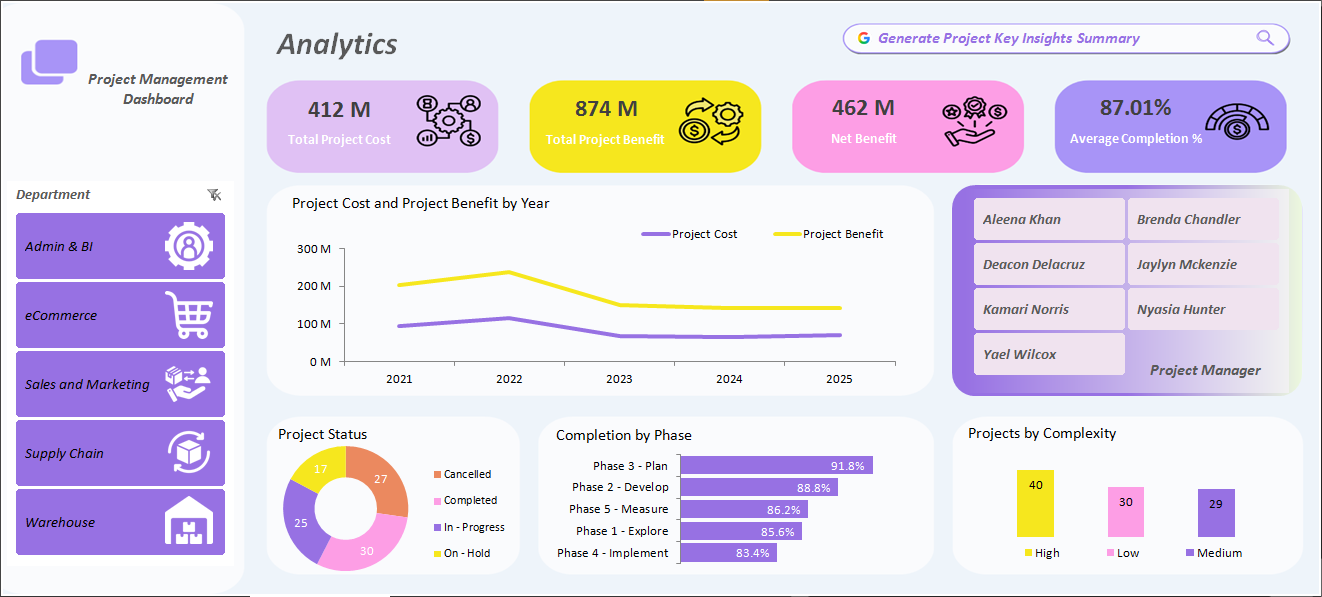

What the dashboard file says about the page in this screenshot:
{"tool":"powerbi","page":{"name":"Project Dashboard","canvas":[3300,1800],"ordinal":0},"visuals":[{"type":"shape","box":[8.1,4,663.9,1789.2],"z":0},{"type":"shape","box":[725,185.9,600,300],"z":1000},{"type":"shape","box":[1377.9,185.9,600,300],"z":2000},{"type":"shape","box":[2030.9,185.9,600,300],"z":3000},{"type":"shape","box":[2683.9,185.9,599.1,299.6],"z":4000},{"type":"shape","box":[724.6,542.4,1882.4,651.7],"z":5000},{"type":"shape","box":[724.6,1222.5,882.5,570.8],"z":6000},{"type":"shape","box":[1651.6,1222.5,955.3,570.8],"z":7000},{"type":"shape","box":[2683.9,1222.5,607.2,570.8],"z":8000},{"type":"shape","box":[2683.9,542.4,599.1,651.7],"z":9000},{"type":"shape","box":[2032.1,32.4,1250.9,109.3],"z":10000},{"type":"card","fields":{"Values":["Project_Management_Dashboard.Total Project Cost"]},"box":[757,186.2,372.4,299.6],"z":11000},{"type":"card","fields":{"Values":["Project_Management_Dashboard.Total Project Benefit"]},"box":[1396.6,186.2,372.4,299.6],"z":12000},{"type":"card","fields":{"Values":["Project_Management_Dashboard.Net Benefit"]},"box":[2056.4,186.2,372.4,299.6],"z":13000},{"type":"card","fields":{"Values":["Project_Management_Dashboard.Average Completion %"]},"box":[2708.2,186.2,425,299.6],"z":14000},{"type":"image","box":[1080.8,186.2,218.6,182.2],"z":15000},{"type":"image","box":[2388.4,190.3,218.6,182.2],"z":16000},{"type":"image","box":[1716.4,190.3,218.6,182.2],"z":17000},{"type":"image","box":[3052.2,186.2,218.6,182.2],"z":18000},{"type":"image","box":[24.3,32.4,251,246.9],"z":19000},{"type":"image","box":[2036.2,60.7,125.5,56.7],"z":20000},{"type":"lineChart","title":"Project Cost and Project Benefit by Year","fields":{"Category":["Project_Management_Dashboard.Year"],"Y":["Project_Management_Dashboard.Total Project Cost","Project_Management_Dashboard.Total Project Benefit"]},"box":[757,574.8,1821.6,587],"z":21000},{"type":"donutChart","title":"Project Status","fields":{"Category":["Project_Management_Dashboard.Status"],"Y":["CountNonNull(Project_Management_Dashboard.Status)"]},"box":[757,1242.8,825.8,534.3],"z":22000},{"type":"clusteredBarChart","title":"Completion % by Phase","fields":{"Category":["Project_Management_Dashboard.Phase"],"Y":["Project_Management_Dashboard.Average Completion %"]},"box":[1679.9,1242.8,927,534.3],"z":23000},{"type":"clusteredColumnChart","title":"Projects by Complexity","fields":{"Category":["Project_Management_Dashboard.Complexity"],"Y":["CountNonNull(Project_Management_Dashboard.Complexity)"]},"box":[2708.2,1242.8,574.8,534.3],"z":24000},{"type":"advancedSlicerVisual","fields":{"Values":["Project_Management_Dashboard.Department"]},"box":[40.5,542.4,599.1,1234.7],"z":25000},{"type":"image","box":[408.9,635.5,218.6,182.2],"z":26000},{"type":"image","box":[404.8,866.3,218.6,182.2],"z":27000},{"type":"image","box":[408.9,1101.1,218.6,182.2],"z":28000},{"type":"image","box":[404.8,1331.8,218.6,182.2],"z":29000},{"type":"image","box":[400.8,1562.6,218.6,182.2],"z":30000},{"type":"textbox","box":[40.5,259.1,599.1,153.8],"z":31000},{"type":"textbox","box":[643.6,12.1,599.1,153.8],"z":32000},{"type":"textbox","box":[2153.6,48.6,850.1,81],"z":33000},{"type":"image","box":[3153.4,48.6,97.2,76.9],"z":34000},{"type":"advancedSlicerVisual","fields":{"Values":["Project_Management_Dashboard.Project Manager"]},"box":[2700.1,574.8,562.7,587],"z":35000},{"type":"textbox","box":[2983.4,1048.5,287.4,64.8],"z":36000}]}

Visuals, with their boxes on the page's 3300x1800 design canvas (x1, y1, x2, y2). These are canvas units, not pixel positions in the 1322x597 screenshot, which may show the page scaled, cropped or inside an application window:
shape: pyautogui.locateOnScreen(8, 4, 672, 1793)
shape: pyautogui.locateOnScreen(725, 186, 1325, 486)
shape: pyautogui.locateOnScreen(1378, 186, 1978, 486)
shape: pyautogui.locateOnScreen(2031, 186, 2631, 486)
shape: pyautogui.locateOnScreen(2684, 186, 3283, 486)
shape: pyautogui.locateOnScreen(725, 542, 2607, 1194)
shape: pyautogui.locateOnScreen(725, 1222, 1607, 1793)
shape: pyautogui.locateOnScreen(1652, 1222, 2607, 1793)
shape: pyautogui.locateOnScreen(2684, 1222, 3291, 1793)
shape: pyautogui.locateOnScreen(2684, 542, 3283, 1194)
shape: pyautogui.locateOnScreen(2032, 32, 3283, 142)
card - Project_Management_Dashboard.Total Project Cost: pyautogui.locateOnScreen(757, 186, 1129, 486)
card - Project_Management_Dashboard.Total Project Benefit: pyautogui.locateOnScreen(1397, 186, 1769, 486)
card - Project_Management_Dashboard.Net Benefit: pyautogui.locateOnScreen(2056, 186, 2429, 486)
card - Project_Management_Dashboard.Average Completion %: pyautogui.locateOnScreen(2708, 186, 3133, 486)
image: pyautogui.locateOnScreen(1081, 186, 1299, 368)
image: pyautogui.locateOnScreen(2388, 190, 2607, 372)
image: pyautogui.locateOnScreen(1716, 190, 1935, 372)
image: pyautogui.locateOnScreen(3052, 186, 3271, 368)
image: pyautogui.locateOnScreen(24, 32, 275, 279)
image: pyautogui.locateOnScreen(2036, 61, 2162, 117)
"Project Cost and Project Benefit by Year" lineChart: pyautogui.locateOnScreen(757, 575, 2579, 1162)
"Project Status" donutChart: pyautogui.locateOnScreen(757, 1243, 1583, 1777)
"Completion % by Phase" clusteredBarChart: pyautogui.locateOnScreen(1680, 1243, 2607, 1777)
"Projects by Complexity" clusteredColumnChart: pyautogui.locateOnScreen(2708, 1243, 3283, 1777)
advancedSlicerVisual - Project_Management_Dashboard.Department: pyautogui.locateOnScreen(40, 542, 640, 1777)
image: pyautogui.locateOnScreen(409, 636, 628, 818)
image: pyautogui.locateOnScreen(405, 866, 623, 1048)
image: pyautogui.locateOnScreen(409, 1101, 628, 1283)
image: pyautogui.locateOnScreen(405, 1332, 623, 1514)
image: pyautogui.locateOnScreen(401, 1563, 619, 1745)
textbox: pyautogui.locateOnScreen(40, 259, 640, 413)
textbox: pyautogui.locateOnScreen(644, 12, 1243, 166)
textbox: pyautogui.locateOnScreen(2154, 49, 3004, 130)
image: pyautogui.locateOnScreen(3153, 49, 3251, 126)
advancedSlicerVisual - Project_Management_Dashboard.Project Manager: pyautogui.locateOnScreen(2700, 575, 3263, 1162)
textbox: pyautogui.locateOnScreen(2983, 1048, 3271, 1113)
